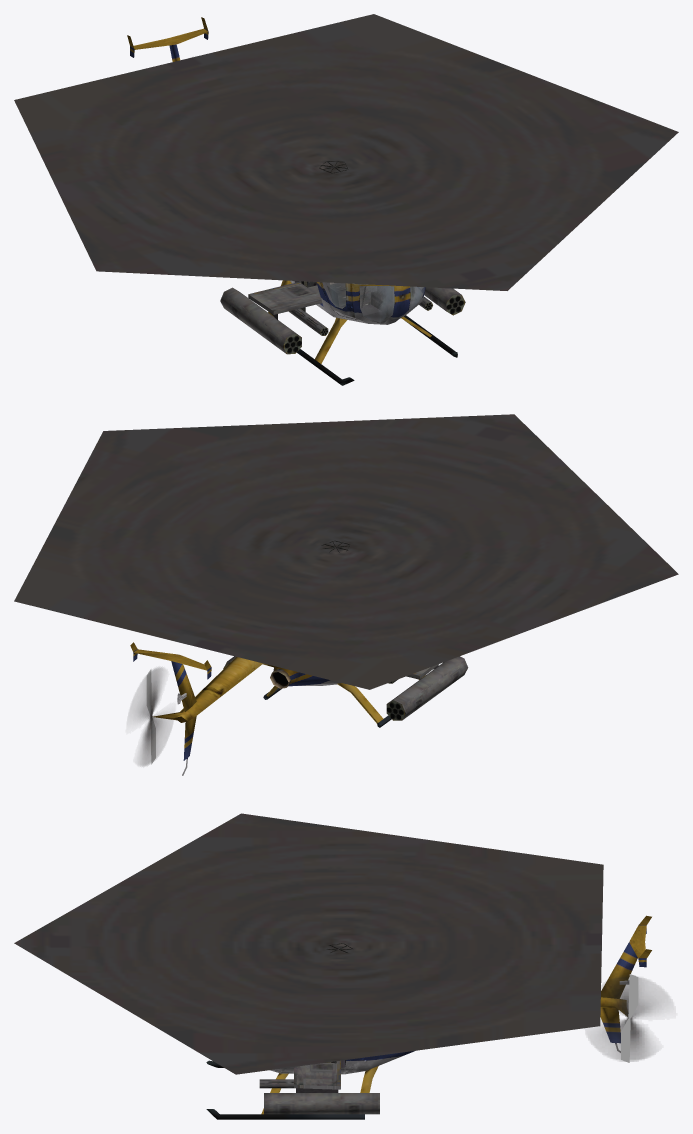
The model's file is eah6c.glb.
3 views of the same model, one above another, from view 1: azimuth 30°, elevation 25°; view 2: azimuth 150°, elevation 25°; view 3: azimuth 270°, elevation 25° (orthographic). The views are drawn at different scales.
Visible parts, largest first — view 1: _eah6c; view 2: _eah6c; view 3: _eah6c.
Boxes of the visible parts, <box> form: _eah6c: <box>14,14,678,385</box>; _eah6c: <box>14,414,678,775</box>; _eah6c: <box>14,813,671,1119</box>.
Size of the model in its own units: 9.77 by 2.81 by 10.51.
8 materials, 7 textured.
